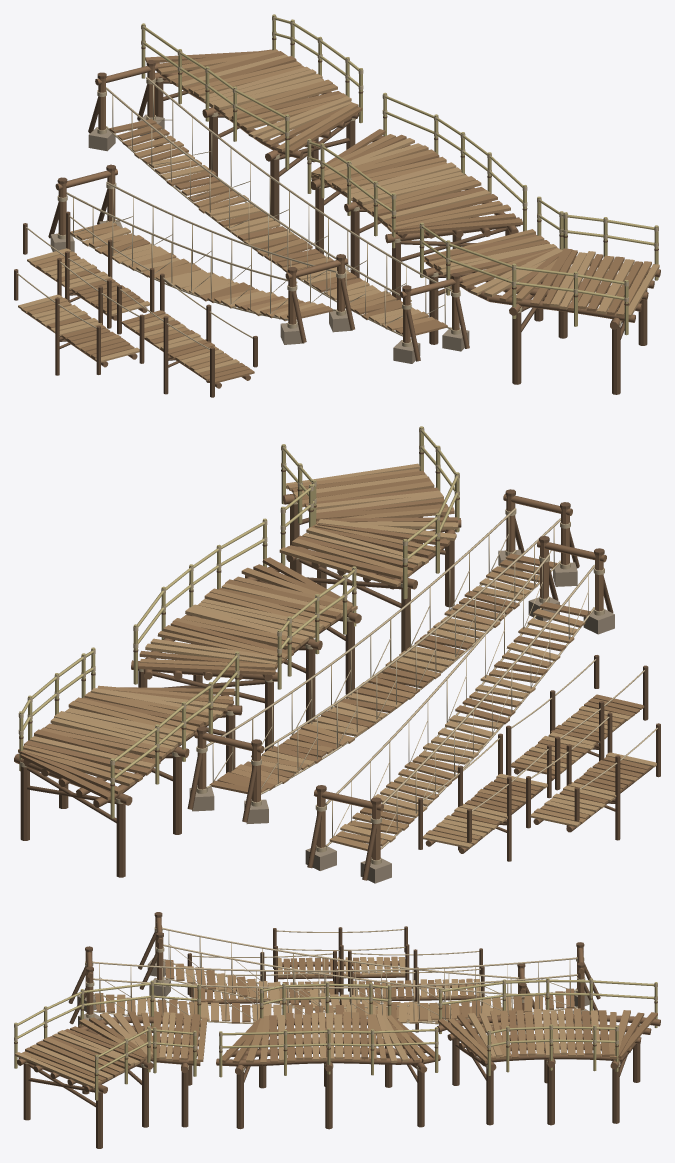
The model's file is bridge_pack__low-poly_3d_game_assets.glb.
3 views of the same model, one above another, from view 1: azimuth 30°, elevation 25°; view 2: azimuth 150°, elevation 25°; view 3: azimuth 270°, elevation 25° (orthographic). The views are drawn at different scales.
Parts seen in each view (by area): view 1: JP_RopeBridgeMesh, JP_LogBridge0, JP_LogBridge1, JP_LogBridge1.001, JP_RopeBridgeMesh2, JP_FootBridges.001, JP_FootBridges.002, JP_FootBridges; view 2: JP_RopeBridgeMesh, JP_LogBridge1.001, JP_LogBridge1, JP_RopeBridgeMesh2, JP_LogBridge0, JP_FootBridges.002, JP_FootBridges.001, JP_FootBridges; view 3: JP_LogBridge0, JP_LogBridge1.001, JP_LogBridge1, JP_RopeBridgeMesh, JP_RopeBridgeMesh2, JP_FootBridges.002, JP_FootBridges, JP_FootBridges.001.
Boxes of the visible parts, x1,y1,x2,y2 form: JP_RopeBridgeMesh: (88, 60, 469, 363); JP_LogBridge0: (419, 196, 660, 394); JP_LogBridge1: (307, 92, 527, 300); JP_LogBridge1.001: (141, 14, 363, 227); JP_RopeBridgeMesh2: (48, 164, 354, 344); JP_FootBridges.001: (117, 273, 257, 397); JP_FootBridges.002: (14, 257, 144, 375); JP_FootBridges: (23, 211, 154, 328); JP_RopeBridgeMesh: (187, 489, 579, 823); JP_LogBridge1.001: (14, 647, 242, 877); JP_LogBridge1: (131, 518, 361, 751); JP_RopeBridgeMesh2: (305, 536, 614, 883); JP_LogBridge0: (279, 426, 461, 652); JP_FootBridges.002: (526, 712, 660, 840); JP_FootBridges.001: (506, 655, 648, 790); JP_FootBridges: (418, 733, 551, 861); JP_LogBridge0: (14, 980, 207, 1148); JP_LogBridge1.001: (437, 977, 660, 1125); JP_LogBridge1: (216, 981, 440, 1129); JP_RopeBridgeMesh: (68, 942, 600, 1025); JP_RopeBridgeMesh2: (138, 912, 534, 1044); JP_FootBridges.002: (273, 926, 409, 1004); JP_FootBridges: (348, 948, 484, 1032); JP_FootBridges.001: (187, 950, 338, 1004).
Size of the model in its own units: 12.96 by 4.18 by 18.96.
